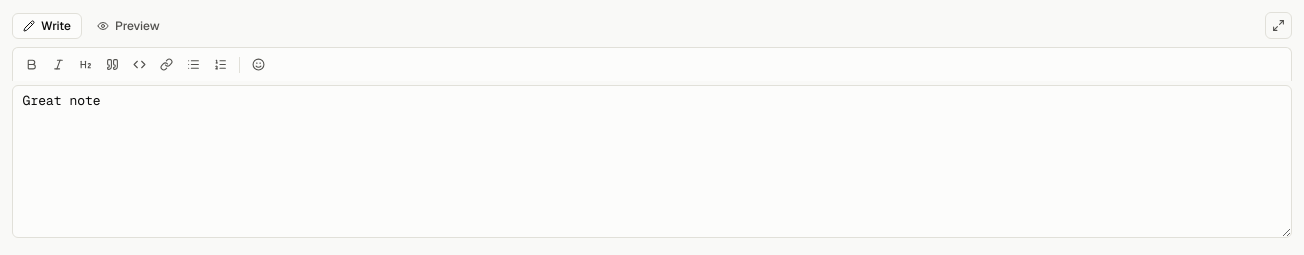
MarkdownEditor › closes when the page behind the emoji menu is scrolled
Step 1. Click the button named "Insert emoji" → (258, 64), box left=246, top=52, right=271, bottom=77
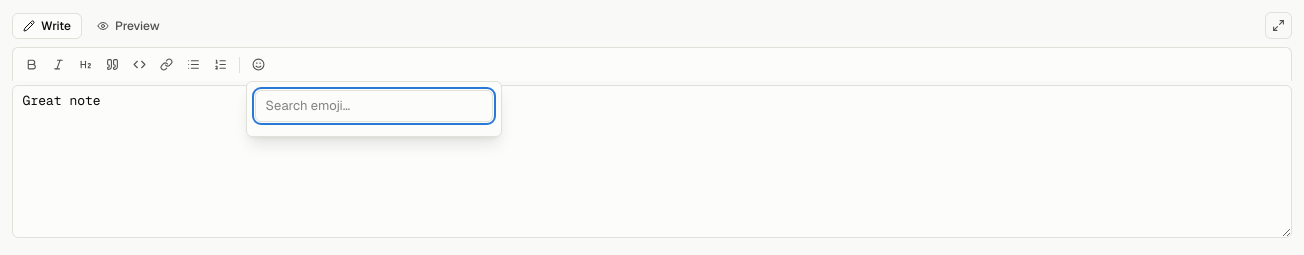
Check: the menu is shown, box left=246, top=81, right=502, bottom=137
